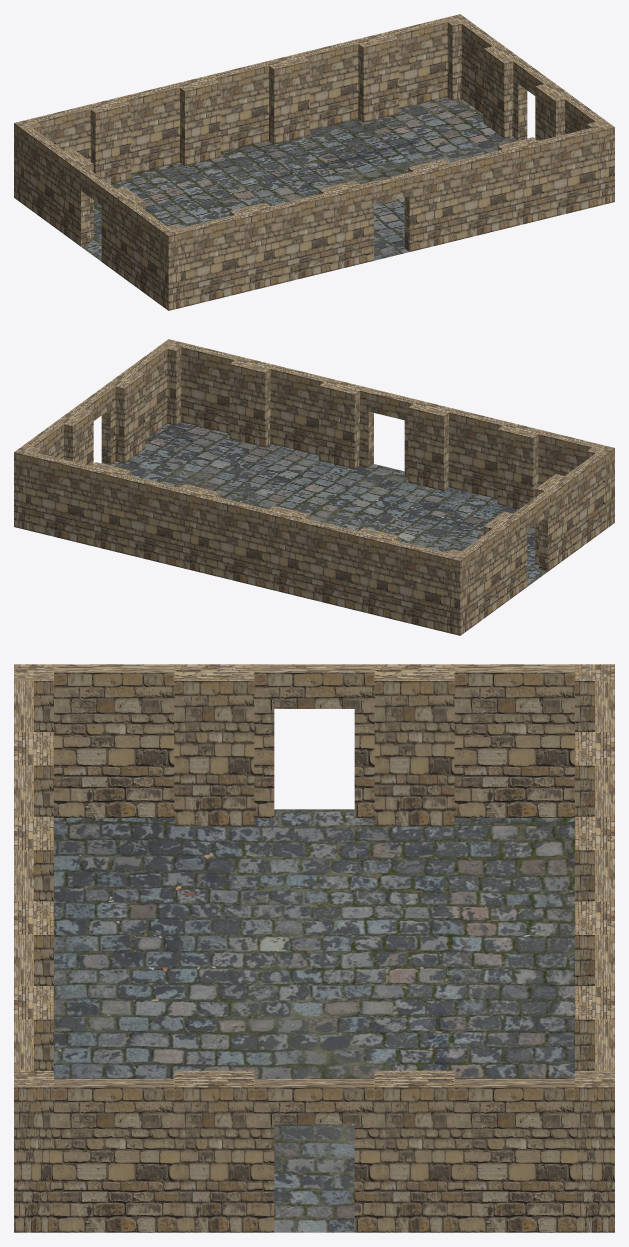
Rendered from 1_threeDoorCor.fbx.
3 views of the same model, one above another, from view 1: azimuth 30°, elevation 25°; view 2: azimuth 150°, elevation 25°; view 3: azimuth 270°, elevation 25° (orthographic). The views are drawn at different scales.
Visible parts, largest first — view 1: Cube_2, Plane; view 2: Cube_2, Plane; view 3: Cube_2, Plane.
Boxes of the visible parts, left/top/right/bottom form: Cube_2: left=14, top=14, right=614, bottom=310; Plane: left=81, top=97, right=527, bottom=261; Cube_2: left=14, top=339, right=614, bottom=635; Plane: left=101, top=422, right=547, bottom=586; Cube_2: left=14, top=664, right=614, bottom=1232; Plane: left=54, top=809, right=574, bottom=1232.
Size of the model in its own units: 50 by 8 by 30.
2 materials, 2 textured.
